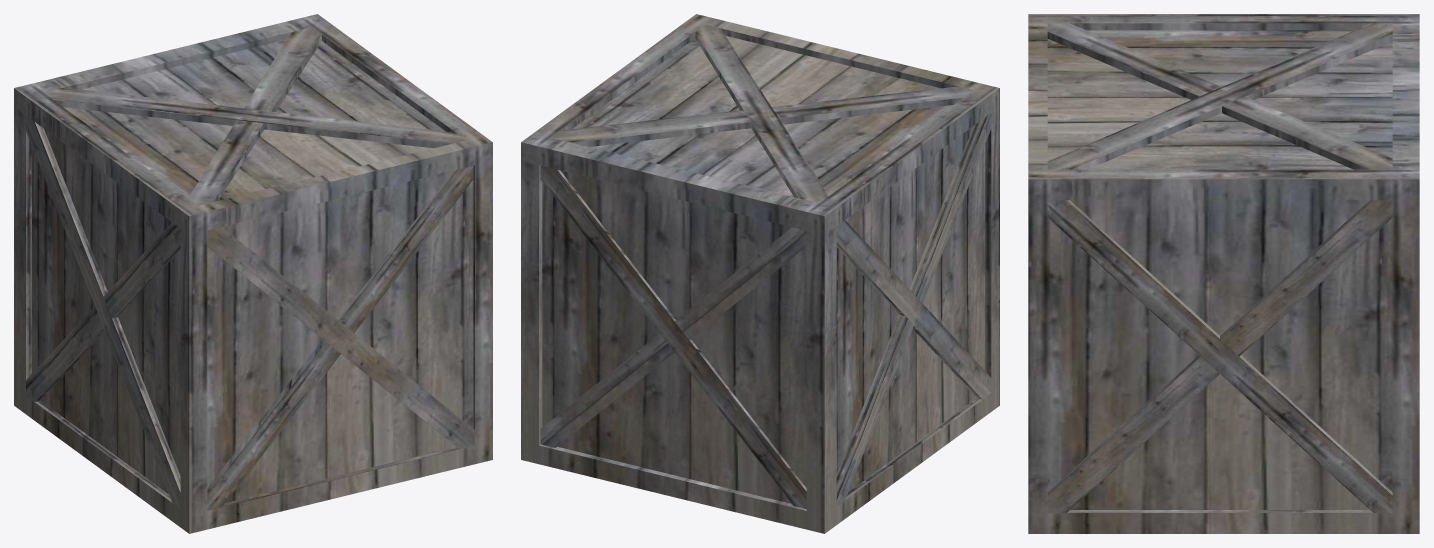
File: wood.dae
3 renders of one model, left to right at view 1: azimuth 30°, elevation 25°; view 2: azimuth 150°, elevation 25°; view 3: azimuth 270°, elevation 25°, orthographic. The views are drawn at different scales.
Parts seen in each view (by area): view 1: Wooden_Box; view 2: Wooden_Box; view 3: Wooden_Box.
Boxes of the visible parts, left/top/right/bottom form: Wooden_Box: left=14, top=14, right=492, bottom=533; Wooden_Box: left=521, top=14, right=999, bottom=533; Wooden_Box: left=1028, top=14, right=1419, bottom=533.
Size of the model in its own units: 1.02 by 1.02 by 1.02.
2 materials, 1 textured.
